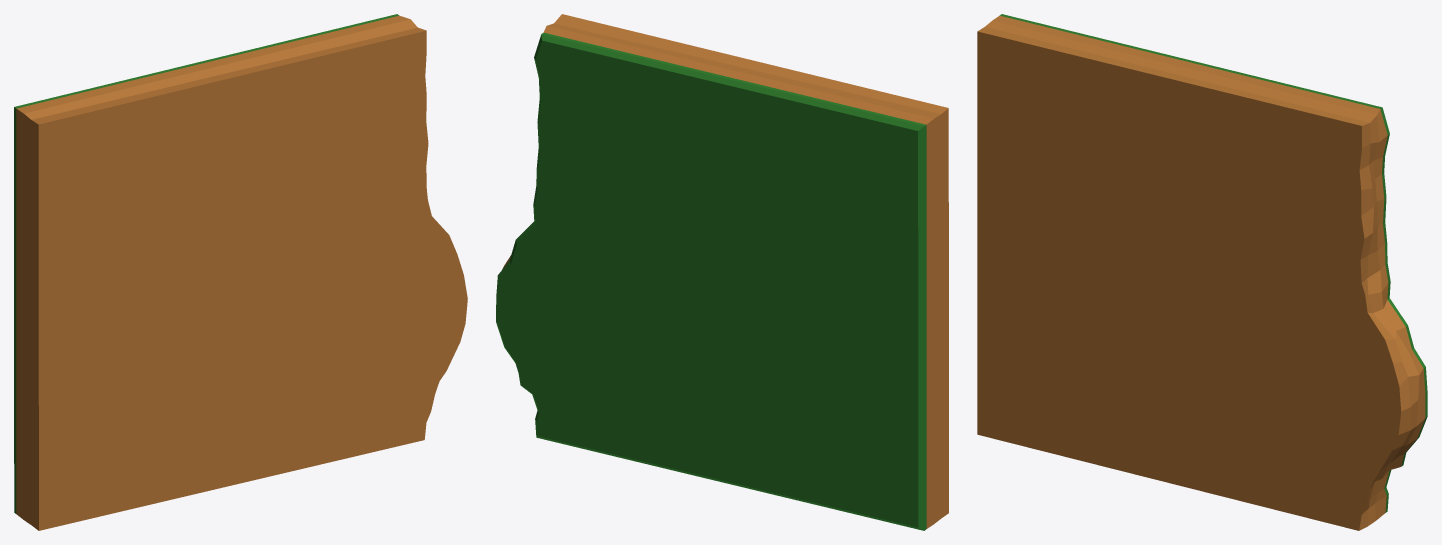
Rendered from side2v2.fbx.
3 renders of one model, left to right at view 1: azimuth 30°, elevation 25°; view 2: azimuth 150°, elevation 25°; view 3: azimuth 330°, elevation 25°, orthographic.
Visible parts, largest first — view 1: side2v2; view 2: side2v2; view 3: side2v2.
Boxes of the visible parts, x1,y1,x2,y2 form: side2v2: (14, 14, 467, 530); side2v2: (496, 14, 948, 530); side2v2: (977, 14, 1427, 530).
Bounding box in the file's own units: 2221 × 2016 × 259.
